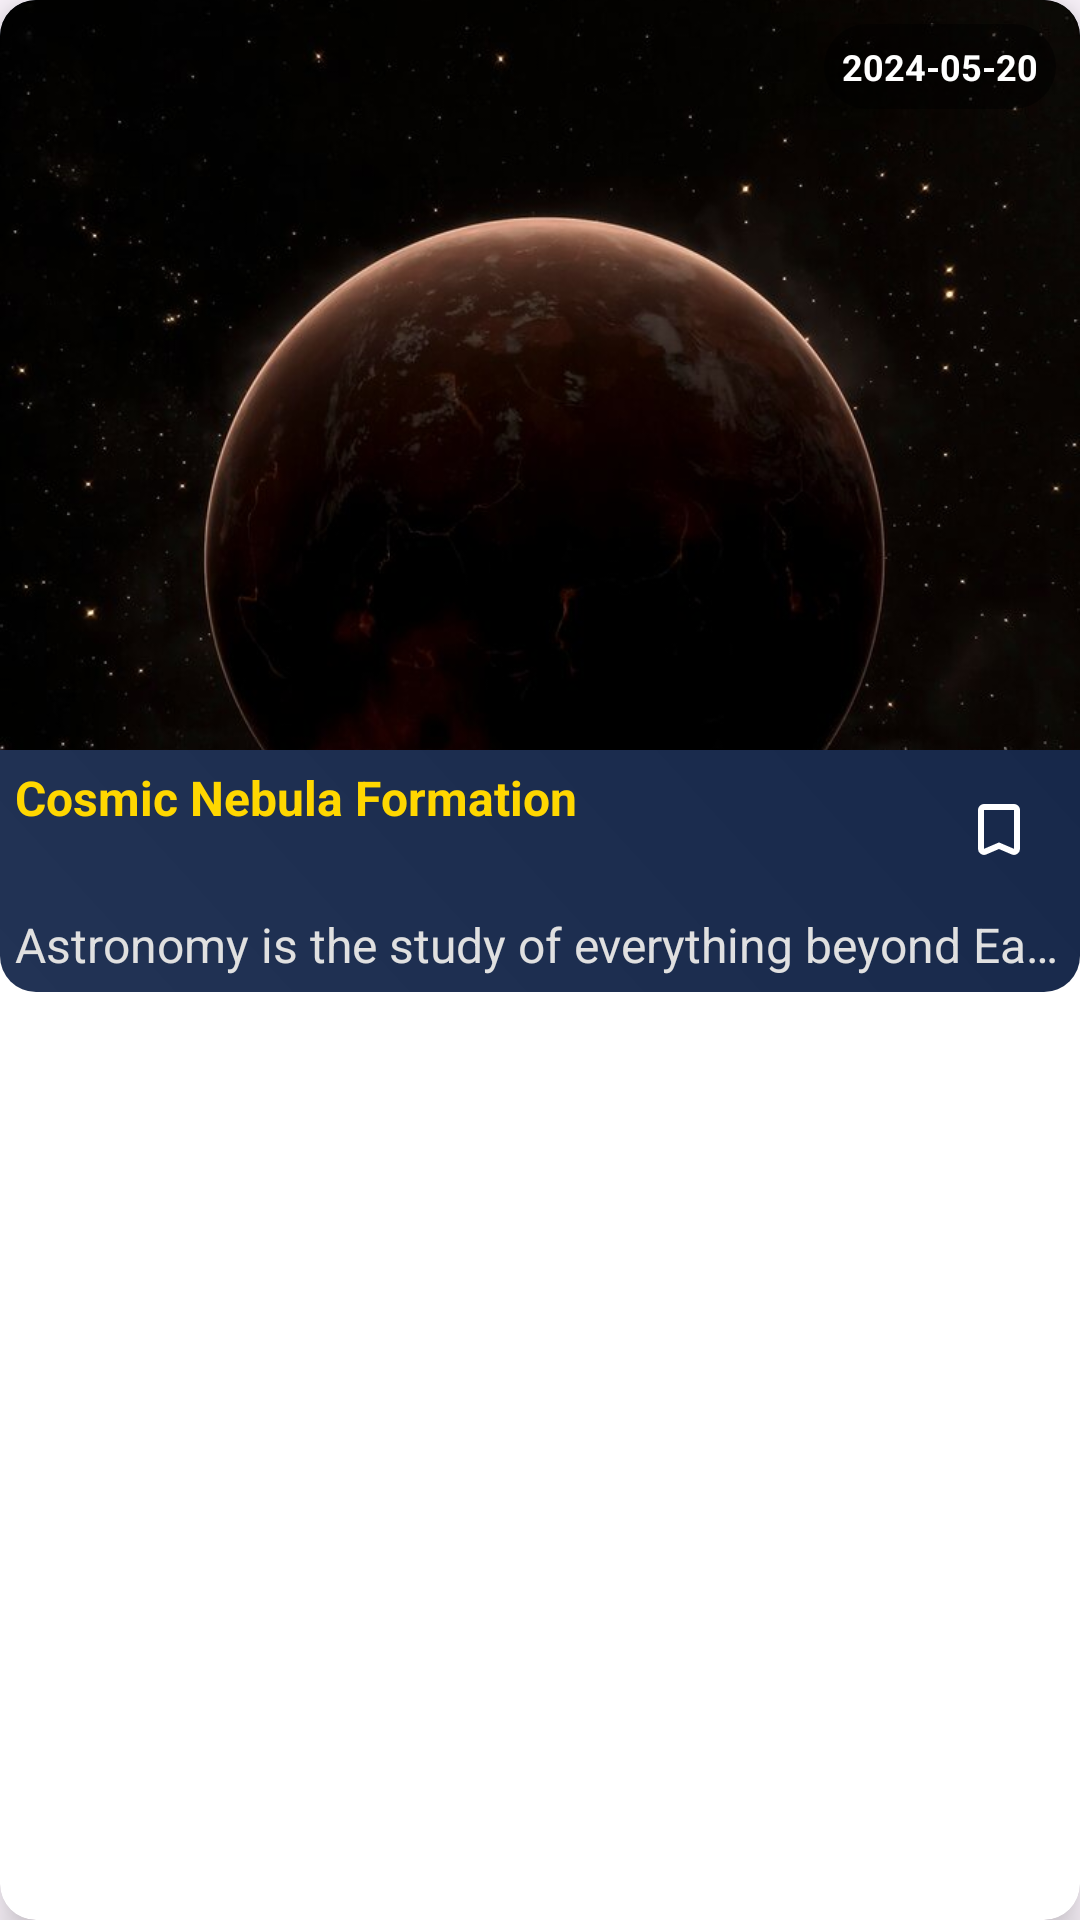

Where to tap for icons on this 1080 x 1920 app screen, as (x,y):
bookmark: (999,829)
